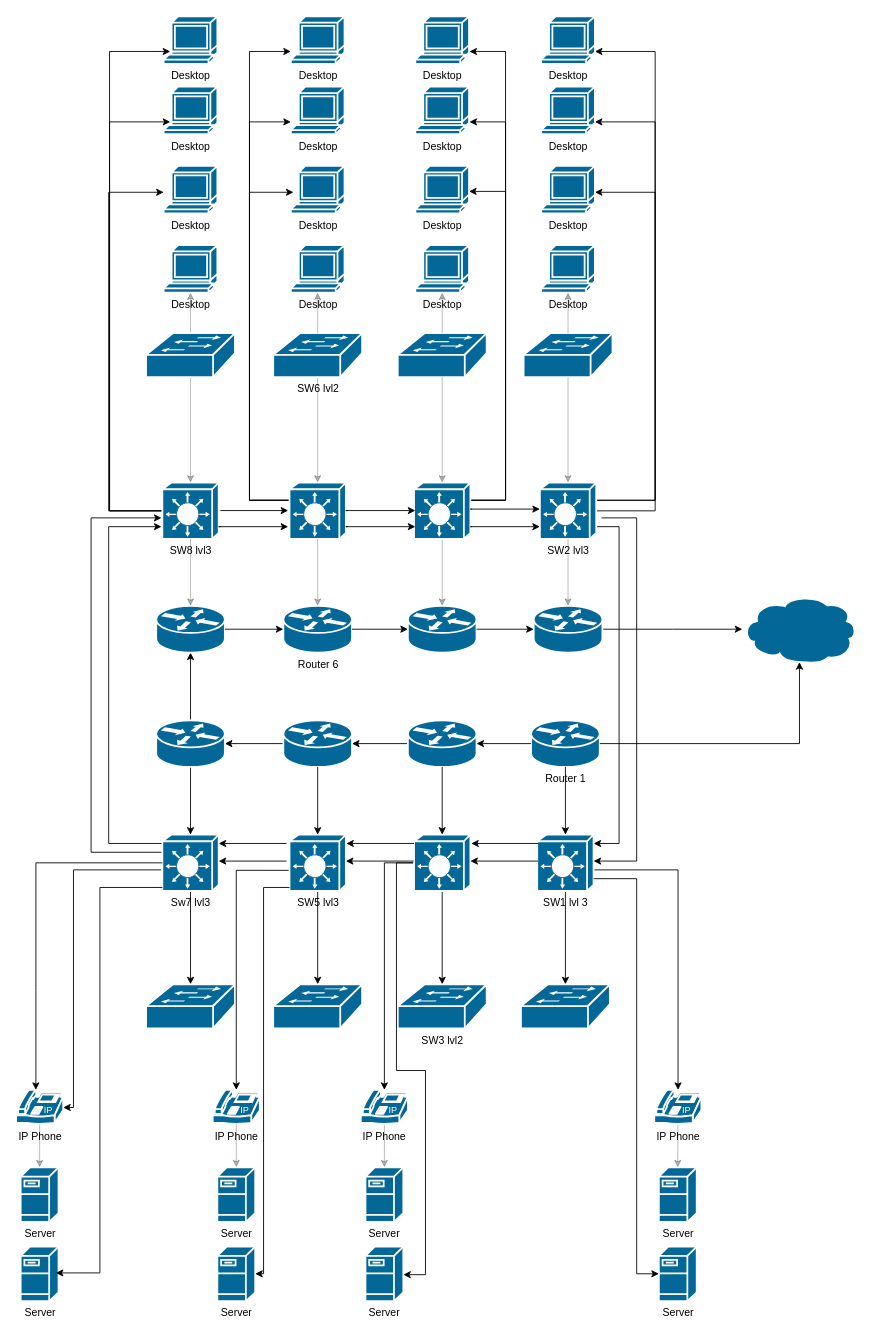
The diagram is 873 pixels wide and 1334 high, and some of its shapes have lost their labels. Here are the shapes that lost their labels. From the top down, the box of each, then its label:
(145, 332, 235, 378): SW8 lvl2
(396, 332, 487, 378): SW4 lvl2
(522, 332, 613, 378): SW2 lvl2
(288, 481, 346, 539): SW6 lvl3
(413, 481, 471, 539): SW4 lvl3
(155, 605, 225, 653): Router 8
(407, 605, 477, 653): Router 4
(532, 605, 603, 653): Router 2
(741, 594, 857, 663): Internet
(155, 719, 225, 767): Router 7
(282, 719, 352, 767): Router 5
(407, 719, 477, 767): Router 3
(413, 833, 471, 891): SW3 lvl3
(145, 983, 235, 1029): SW7 lvl2
(272, 983, 363, 1029): SW5 lvl2
(520, 983, 610, 1029): SW1 lvl2
